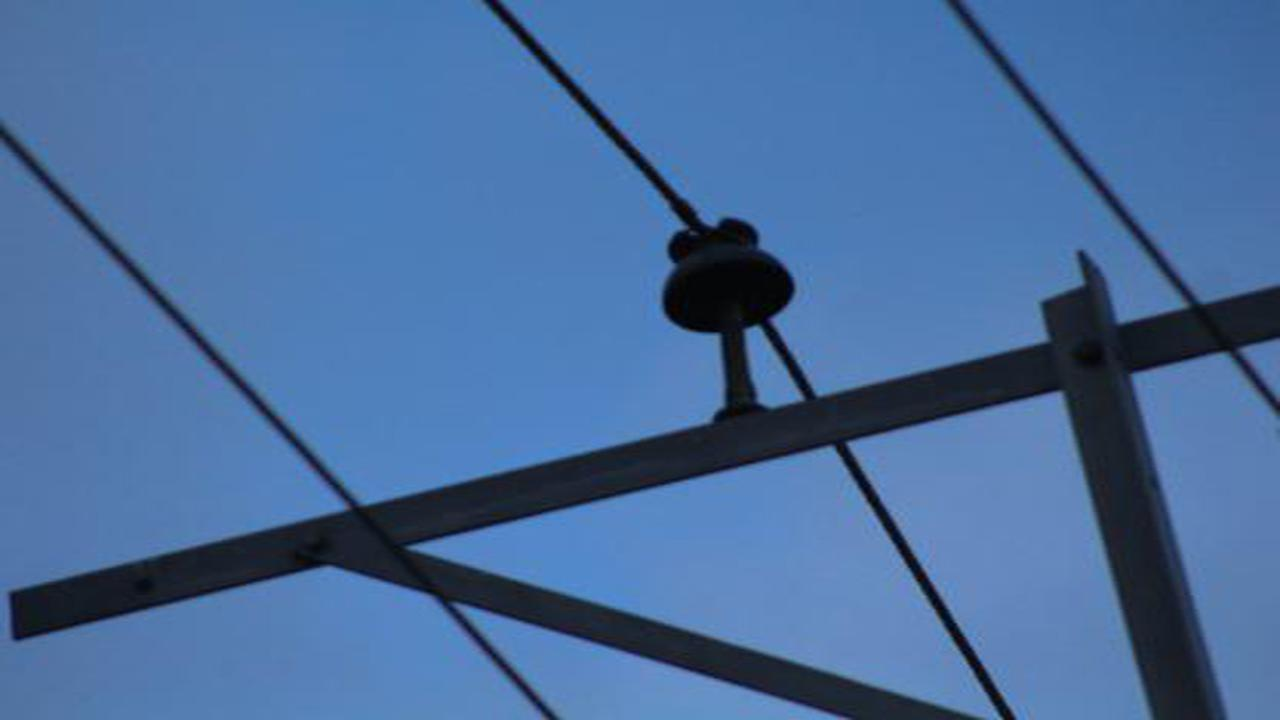insulator_pin: (657, 213, 803, 337)
